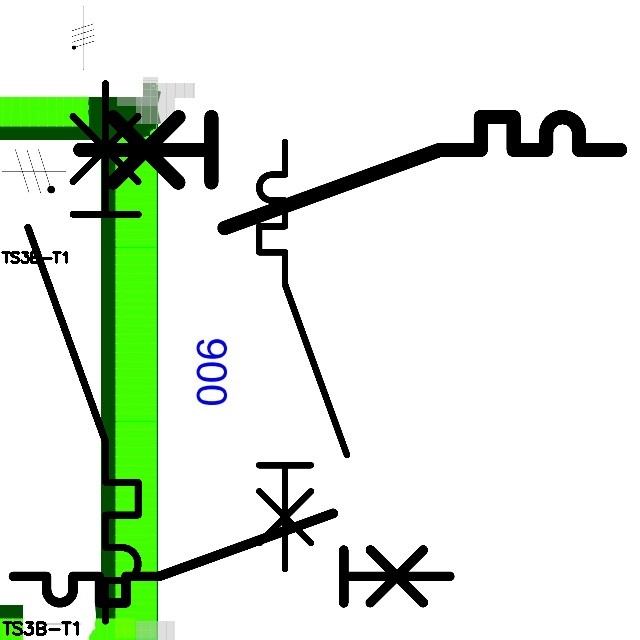interruptor_termomagnetico: (66, 103, 634, 242), (14, 69, 152, 634), (2, 502, 461, 614), (248, 131, 358, 580)
